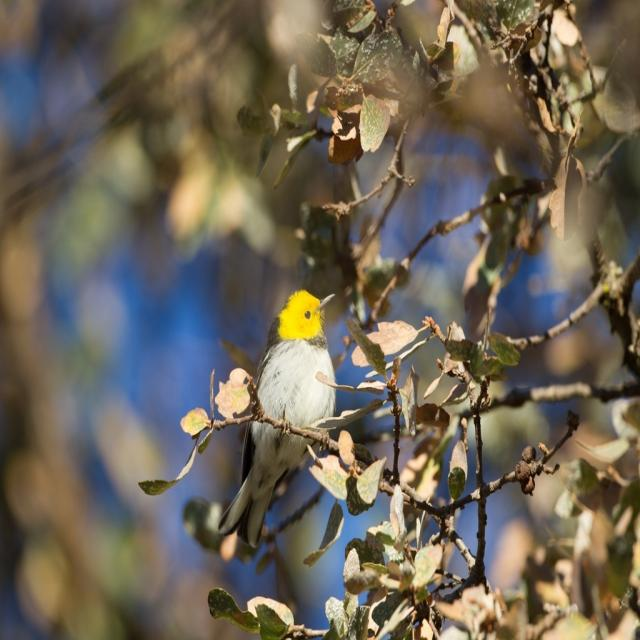bird: (219, 283, 340, 541)
